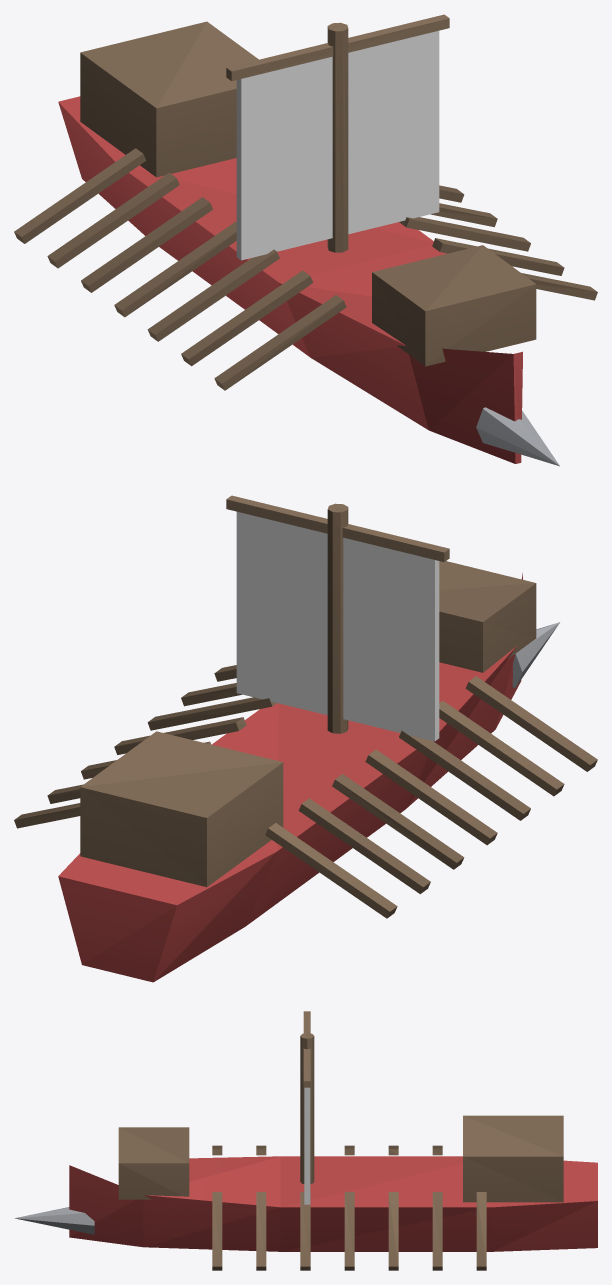
File: Dromon.glb
The picture shows the model from 3 angles, top to bottom: view 1: azimuth 30°, elevation 25°; view 2: azimuth 150°, elevation 25°; view 3: azimuth 270°, elevation 25°; orthographic projection. The views are drawn at different scales.
Parts seen in each view (by area): view 1: Body; view 2: Body; view 3: Body.
Part boxes in pixels (x1,y1,x2,y2): Body: (14,14,597,466); Body: (14,495,597,982); Body: (15,1011,597,1270).
Bounding box in the file's own units: 0.5689 × 0.44 × 1.16.
